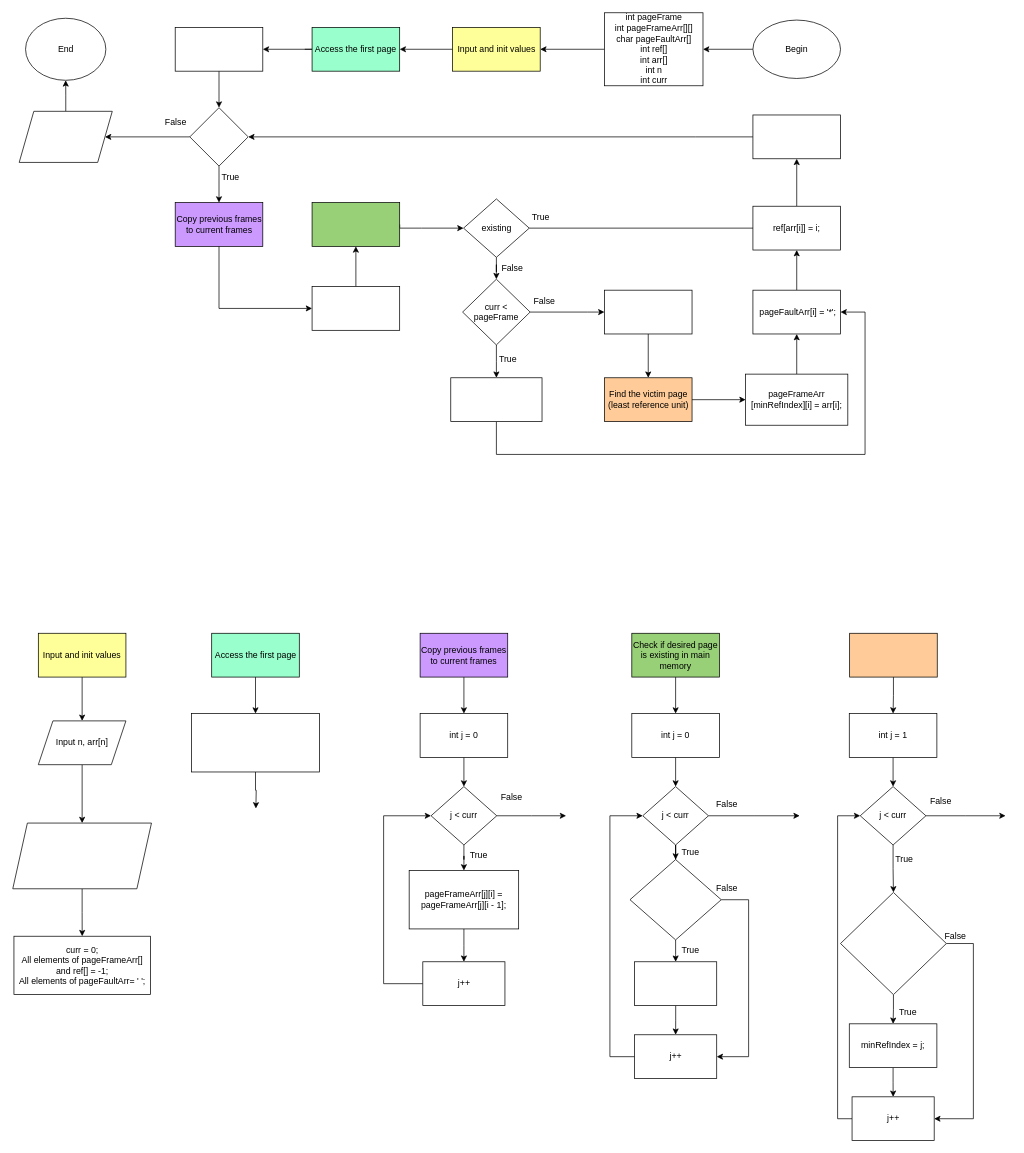
The diagram is 1024 pixels wide and 1153 high, and some of its shapes have lost their labels. Each missing label, with the box of its shape:
bool existing = false: (311, 286, 400, 330)
Check if desired page is existing: (311, 202, 400, 246)
existing = true;: (634, 961, 717, 1006)
Export result: (18, 111, 112, 162)
Find the victim page using LRU: (849, 633, 937, 677)
i < n: (189, 107, 248, 166)
i++: (752, 114, 841, 159)
input pageFrame, pageFrameArr[pageFrame][n]: (12, 822, 151, 889)
int i = 1: (174, 27, 263, 71)
int minRefIndex = 0: (604, 289, 692, 334)
pageFrameArr[0][0] = arr[0]; ref[arr[0]] = 0; pageFaultArr[0] = '*'; curr++;: (191, 713, 319, 772)
pageFrameArr[curr][i] = arr[i]; curr++;: (450, 377, 542, 422)
pageFrameArr[j][i] == arr[i]: (629, 859, 721, 940)
ref[pageFrameArr[j][i]] < ref[pageFrameArr [minRefIndex][i]]: (840, 892, 946, 995)
